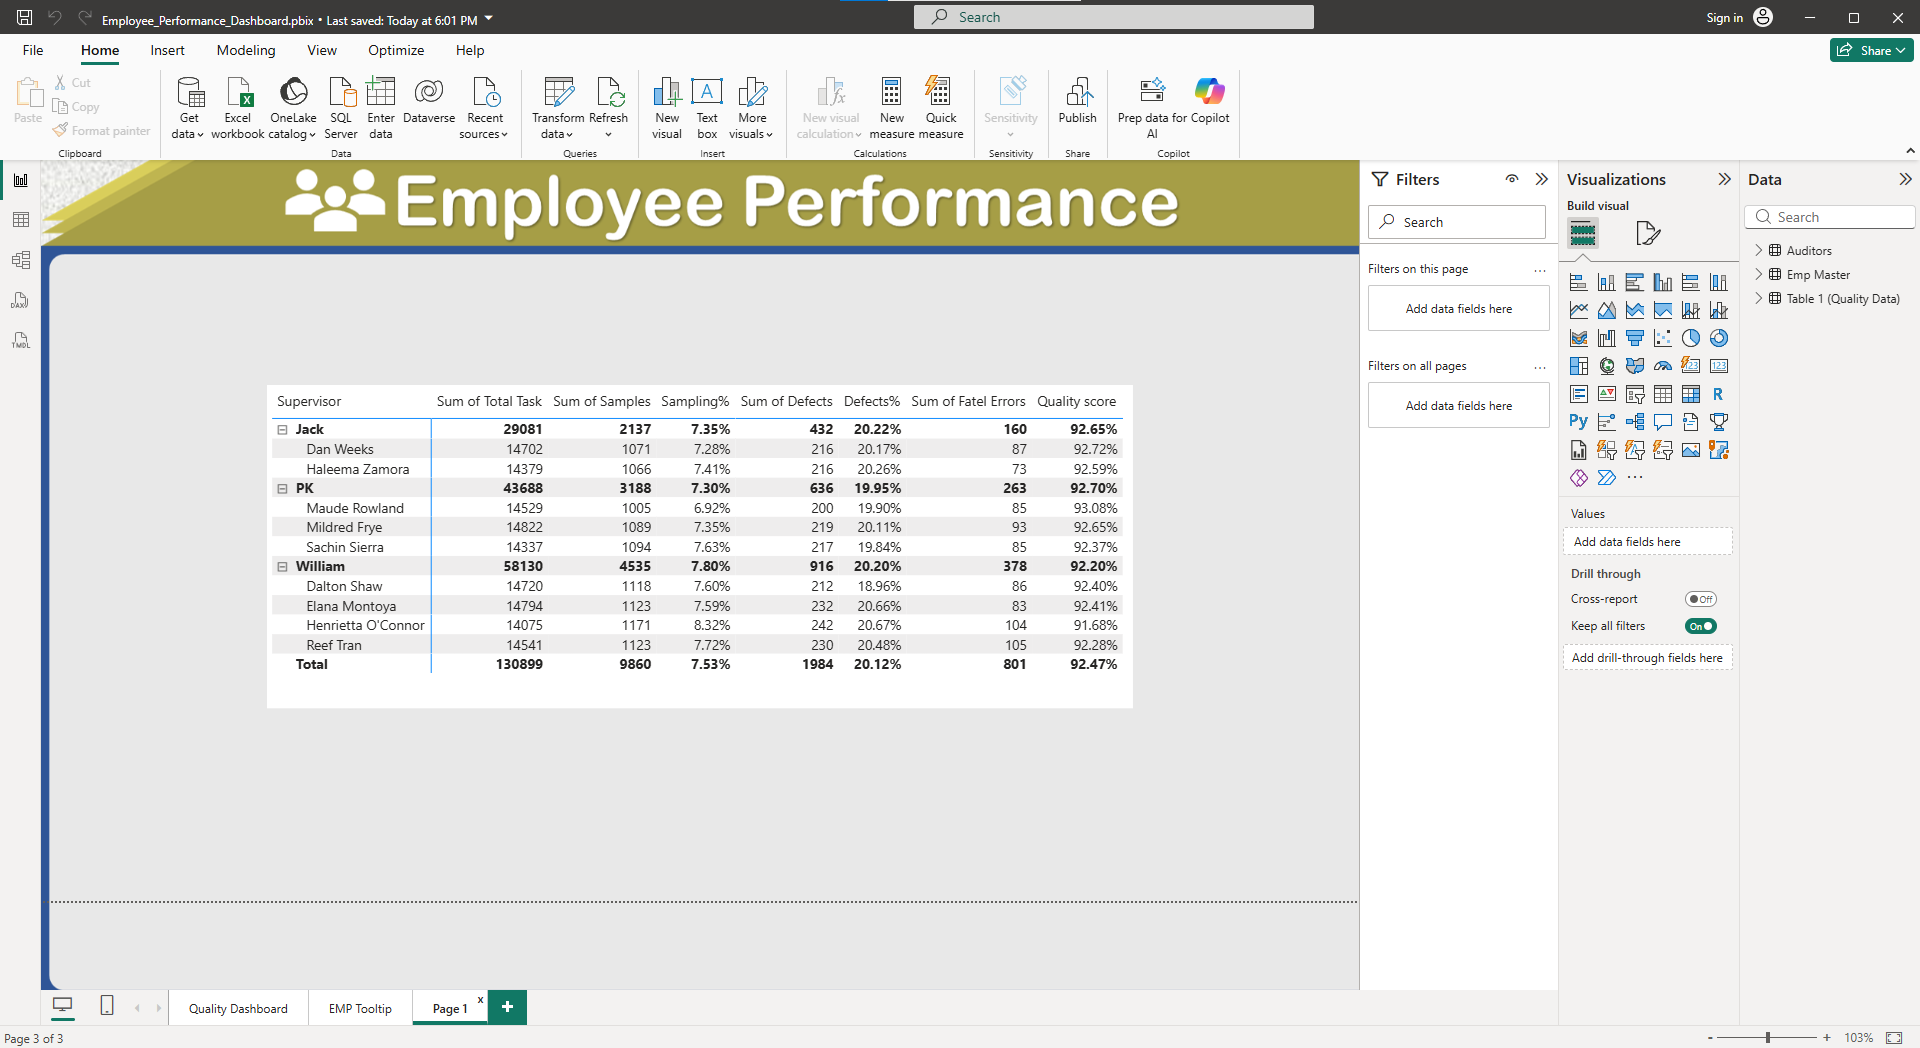

Layout of this report page (visuals, bound fields, positions):
{"tool":"powerbi","page":{"name":"Page 1","canvas":[1280,720],"ordinal":2},"visuals":[{"type":"pivotTable","fields":{"Rows":["Emp Master.Supervisor","Emp Master.EMP Name"],"Values":["Sum(Table 1 (Quality Data).Total Task)","Sum(Table 1 (Quality Data).Samples)","Table 1 (Quality Data).Sampling%","Sum(Table 1 (Quality Data).Defects)","Table 1 (Quality Data).Defects%","Sum(Table 1 (Quality Data).Fatel Errors)","Table 1 (Quality Data).Quality score"]},"box":[219.5,218.5,841,313.7],"z":0}]}

Visuals, with their boxes on the page's 1280x720 design canvas (x1, y1, x2, y2). These are canvas units, not pixel positions in the 1920x1048 screenshot, which may show the page scaled, cropped or inside an application window:
pivotTable - Emp Master.Supervisor x Emp Master.EMP Name: <box>220,218,1060,532</box>
